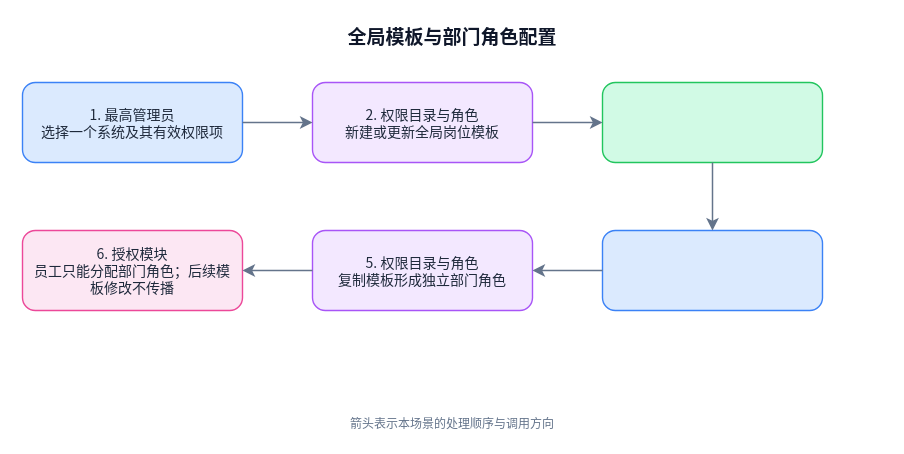
Some shapes in this 904 by 454 pixel diagram are drawn without their labels. Here are the shapes that lost their labels. From the top down, the box of each, then its label:
(601, 81, 823, 163): 3. 系统 保存模板权限集合并记录管理事件
(601, 229, 823, 311): 4. 部门管理员 选择本部门与获准系统
